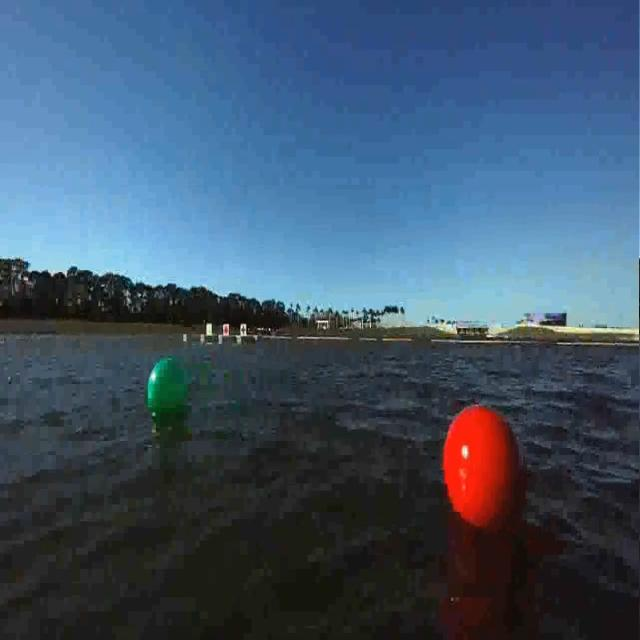green-buoy: (147, 354, 191, 424)
red-buoy: (438, 404, 532, 537)
